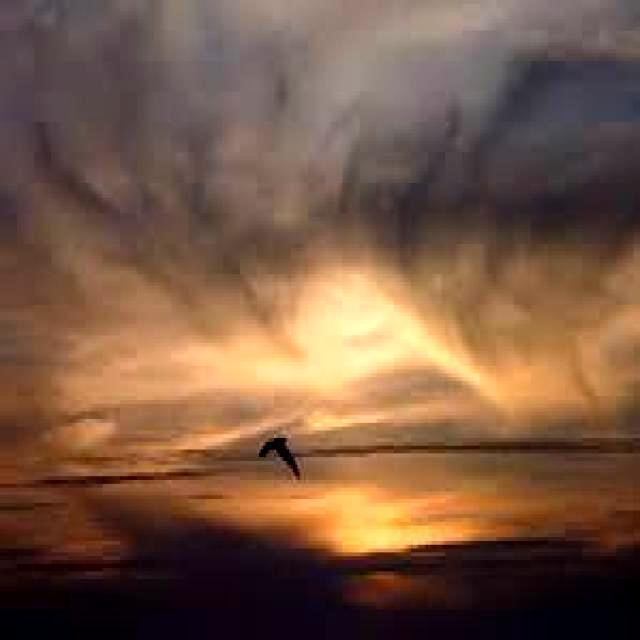bird: (254, 422, 308, 492)
